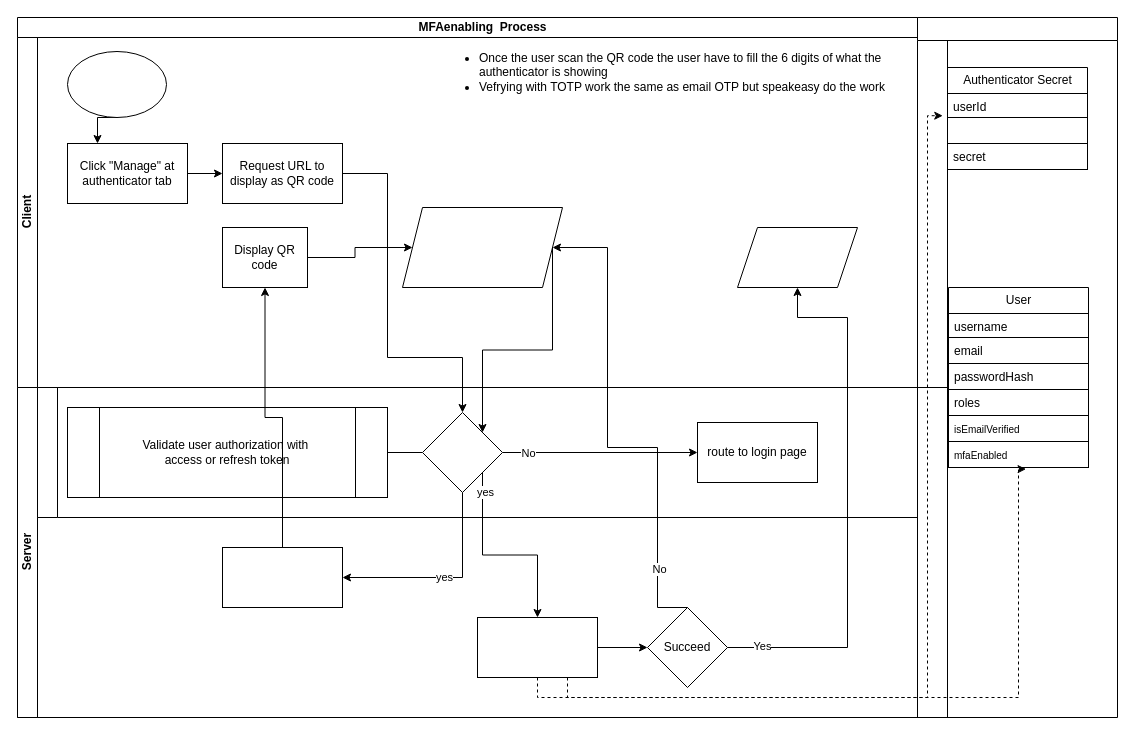
The diagram is 1135 pixels wide and 735 high, and some of its shapes have lost their labels. The box of each missing label's shape, as (x1, y1, x2, y2) in pixels:
authorized: (422, 412, 502, 492)
DataBase: (916, 16, 1118, 718)
Middleware: (36, 386, 918, 518)
speakeasy generate url: (222, 546, 342, 608)
speakeasy verify the code: (476, 616, 598, 678)
Start: (66, 50, 166, 118)
type: (946, 116, 1088, 144)
User can chhose rather to go back or stay: (736, 226, 858, 288)
User setup at the authenticator app and verify with OTP code: (402, 206, 562, 288)
